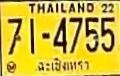1: (30, 18, 34, 53)
4: (52, 17, 66, 52)
5: (100, 16, 114, 51), (84, 16, 98, 51)
7: (8, 17, 22, 54), (69, 17, 82, 52)
CCO: (35, 56, 92, 74)
